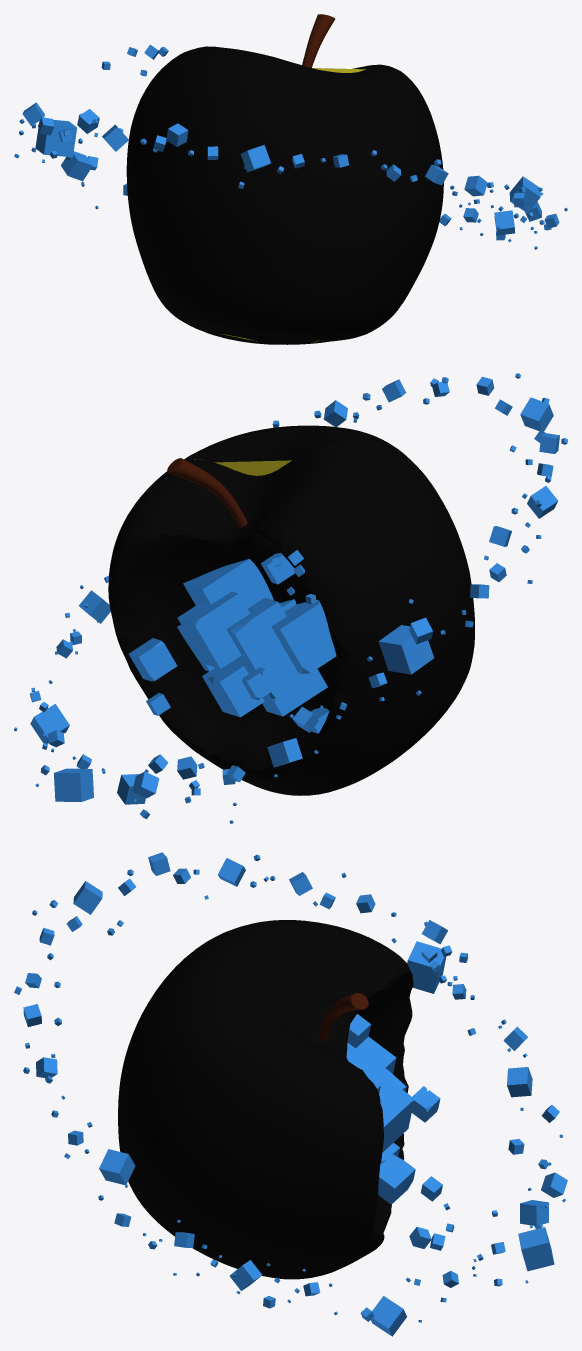
File: cube testing0911_.fbx
The picture shows the model from 3 angles, top to bottom: view 1: azimuth 30°, elevation 25°; view 2: azimuth 150°, elevation 25°; view 3: azimuth 270°, elevation 25°; orthographic projection. The views are drawn at different scales.
Visible parts, largest first — view 1: 6, 8, 5, 2, 7, 4, 1; view 2: 2, 4, 1, 3, 6, 5, 8, 7; view 3: 5, 3, 1, 2, 7, 6, 4.
Part boxes in pixels (x1,y1,x2,y2): 6: (78,55,417,256); 8: (153,225,371,344); 5: (309,66,543,245); 2: (14,44,271,224); 7: (305,193,567,344); 4: (42,138,274,344); 1: (302,14,397,69); 2: (229,447,532,725); 4: (142,635,450,823); 1: (108,458,291,642); 3: (14,600,254,818); 6: (292,373,567,634); 5: (184,379,406,475); 8: (426,600,474,733); 7: (65,575,110,644); 5: (23,962,279,1187); 3: (279,1112,567,1336); 1: (279,973,414,1171); 2: (279,872,527,1091); 7: (98,1104,279,1308); 6: (14,852,279,1101); 4: (376,1032,562,1231).
Size of the model in its own units: 359 by 228 by 354.
